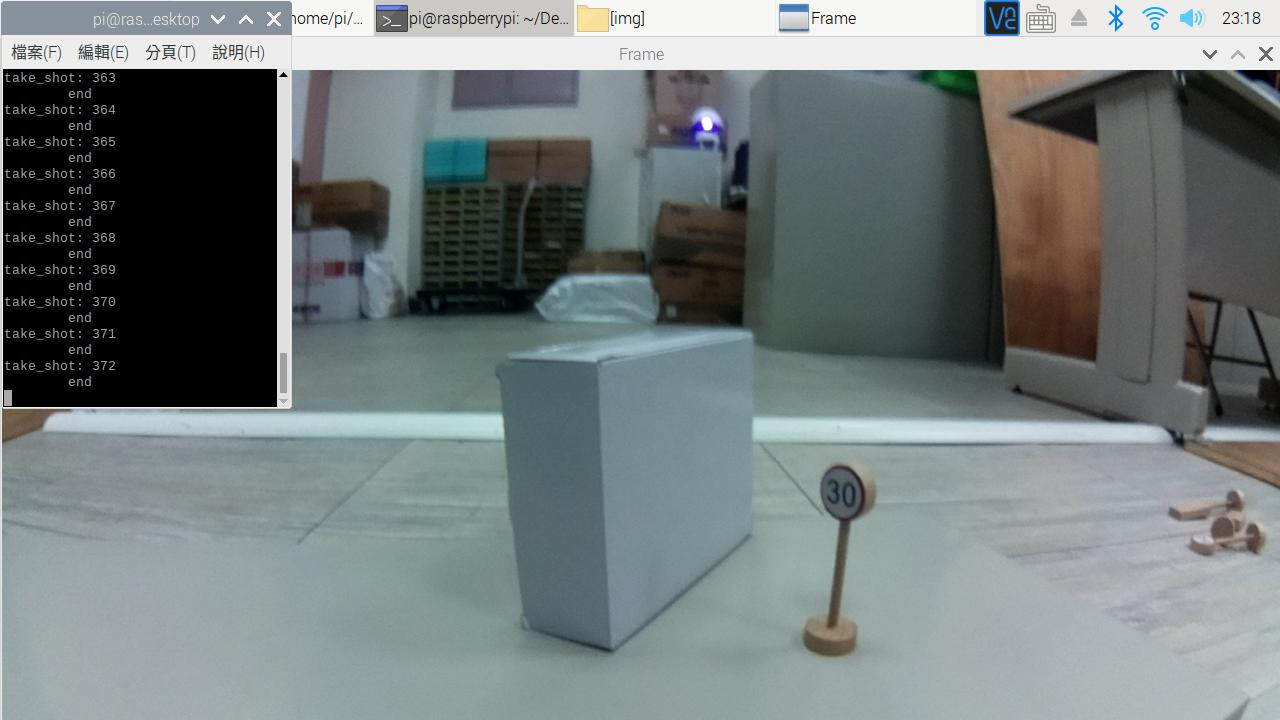Speed30: (812, 461, 892, 531)
